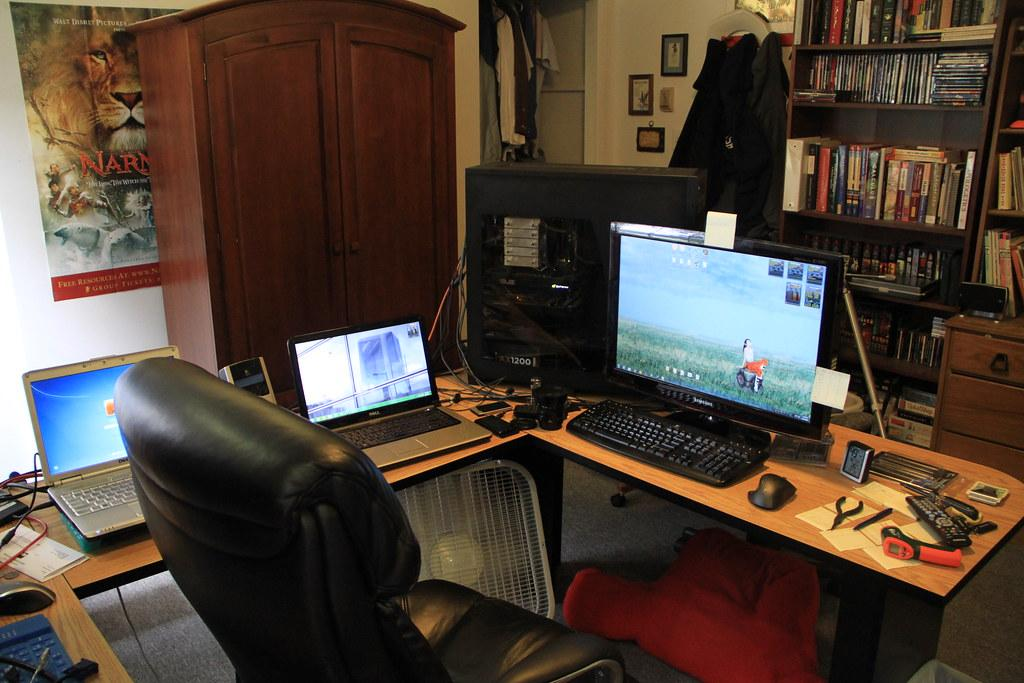computer: (462, 161, 709, 396), (605, 220, 845, 449), (287, 314, 493, 472), (22, 345, 181, 541)
